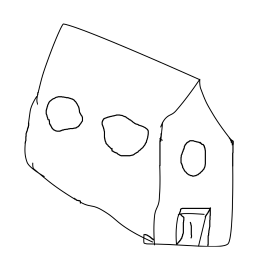door: (174, 203, 214, 251)
open_window: (88, 107, 152, 160), (42, 90, 89, 135), (178, 133, 212, 178)
single_line_roof: (28, 17, 242, 129)
wall: (150, 77, 236, 248)
